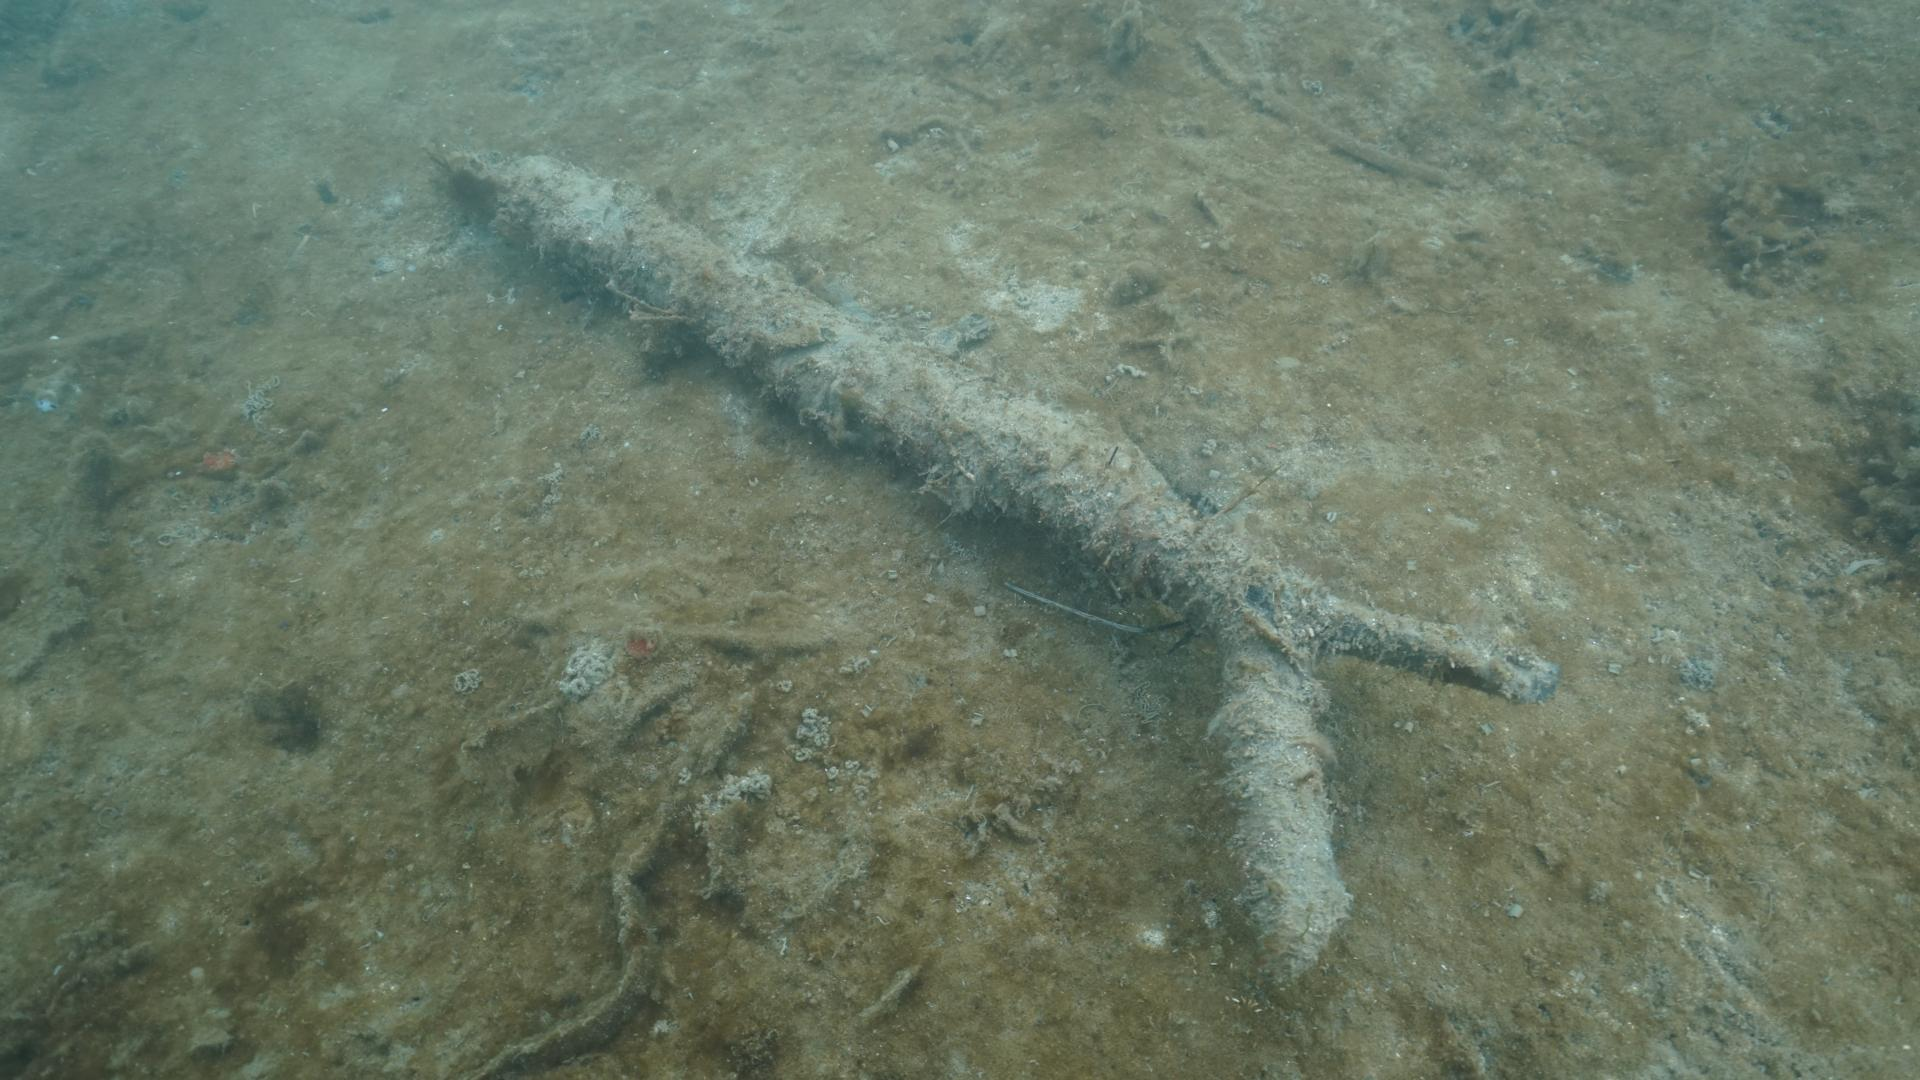wood: (429, 150, 1553, 996)
